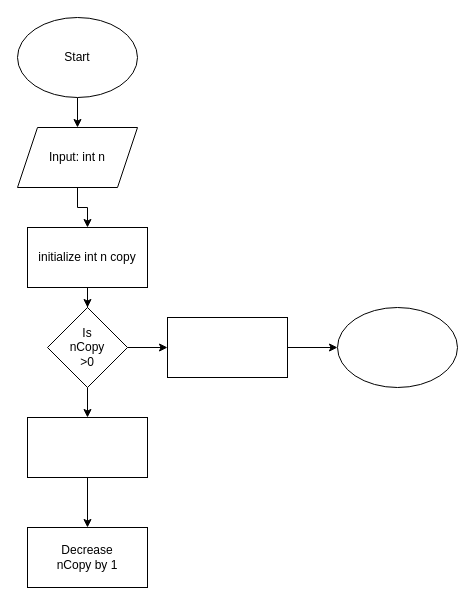
Image size: 475x605. Some labels were removed from this diagram. Here are the shapes that lost their labels. From the top down, the centre of each, then its label:
the point at 397,347: End
the point at 87,447: Print '-'
